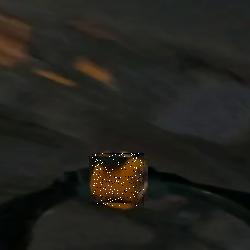restaffald: (92, 153, 144, 206)
